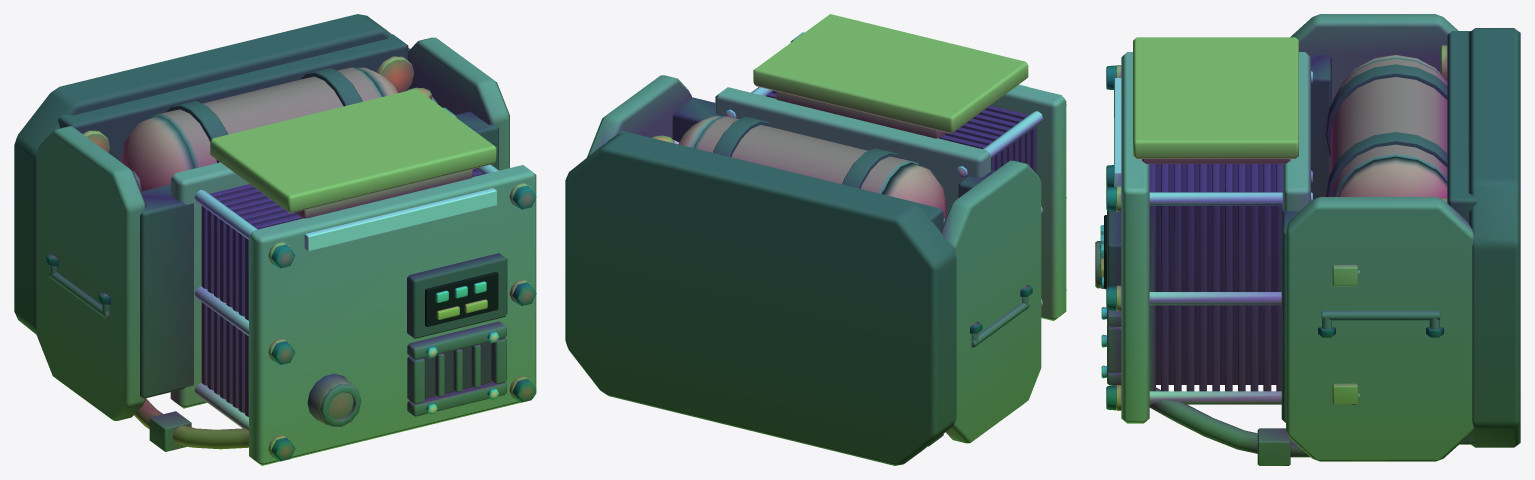
The model's file is gen_hfc.glb.
The picture shows the model from 3 angles, left to right: view 1: azimuth 30°, elevation 25°; view 2: azimuth 150°, elevation 25°; view 3: azimuth 270°, elevation 25°; orthographic projection. The views are drawn at different scales.
Parts seen in each view (by area): view 1: Body__armor, Body__dark, Body__armor_sub, Body__gunmetal, Body__accent, Body__armor_dark, Body__hazard, Body__copper, Body__chrome, Body__bore, Body__brass; view 2: Body__dark, Body__armor_sub, Body__accent, Body__armor, Body__armor_dark, Body__gunmetal, Body__copper, Body__chrome; view 3: Body__armor_sub, Body__dark, Body__gunmetal, Body__accent, Body__armor, Body__armor_dark, Body__chrome, Body__brass, Body__hazard, Body__copper.
Boxes of the visible parts, <box> form: Body__armor: <box>170,107,536,465</box>; Body__dark: <box>14,14,507,398</box>; Body__armor_sub: <box>36,37,509,420</box>; Body__gunmetal: <box>48,168,536,461</box>; Body__accent: <box>83,56,496,213</box>; Body__armor_dark: <box>149,67,382,167</box>; Body__hazard: <box>304,188,496,251</box>; Body__copper: <box>134,169,472,449</box>; Body__chrome: <box>194,164,499,429</box>; Body__bore: <box>425,271,498,326</box>; Body__brass: <box>133,96,531,458</box>; Body__dark: <box>565,97,1032,465</box>; Body__armor_sub: <box>586,75,1041,443</box>; Body__accent: <box>651,14,1028,222</box>; Body__armor: <box>715,32,1066,320</box>; Body__armor_dark: <box>694,116,919,193</box>; Body__gunmetal: <box>766,90,1066,347</box>; Body__copper: <box>776,91,946,138</box>; Body__chrome: <box>674,87,1043,307</box>; Body__armor_sub: <box>1286,14,1473,461</box>; Body__dark: <box>1107,28,1520,447</box>; Body__gunmetal: <box>1095,65,1440,465</box>; Body__accent: <box>1133,37,1447,202</box>; Body__armor: <box>1121,52,1310,423</box>; Body__armor_dark: <box>1330,57,1447,196</box>; Body__chrome: <box>1101,71,1360,404</box>; Body__brass: <box>1116,65,1358,410</box>; Body__hazard: <box>1114,78,1121,186</box>; Body__copper: <box>1142,159,1290,163</box>.
Bounding box in the file's own units: 0.7993 × 0.5464 × 0.718.
